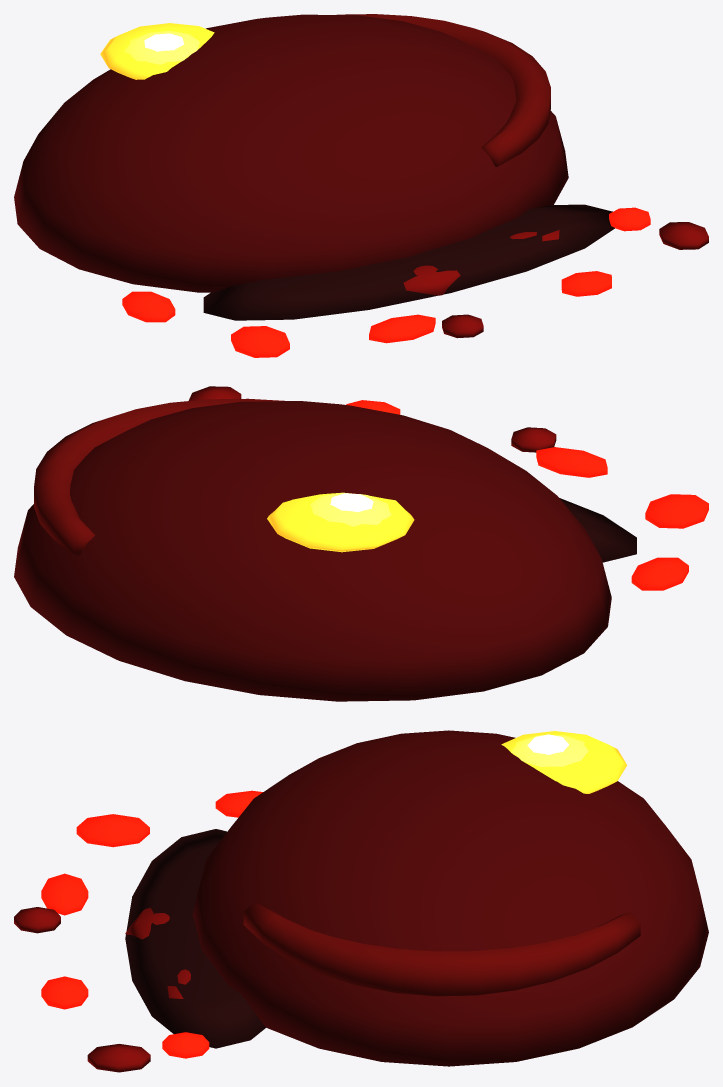
The model's file is newsh3-128.glb.
3 views of the same model, one above another, from view 1: azimuth 30°, elevation 25°; view 2: azimuth 150°, elevation 25°; view 3: azimuth 270°, elevation 25° (orthographic). The views are drawn at different scales.
Visible parts, largest first — view 1: newsh3-128; view 2: newsh3-128; view 3: newsh3-128.
Boxes of the visible parts, x1,y1,x2,y2 form: newsh3-128: [14, 14, 708, 357]; newsh3-128: [14, 386, 708, 701]; newsh3-128: [14, 730, 708, 1072].
Size of the model in its own units: 1.79 by 0.46 by 1.91.
